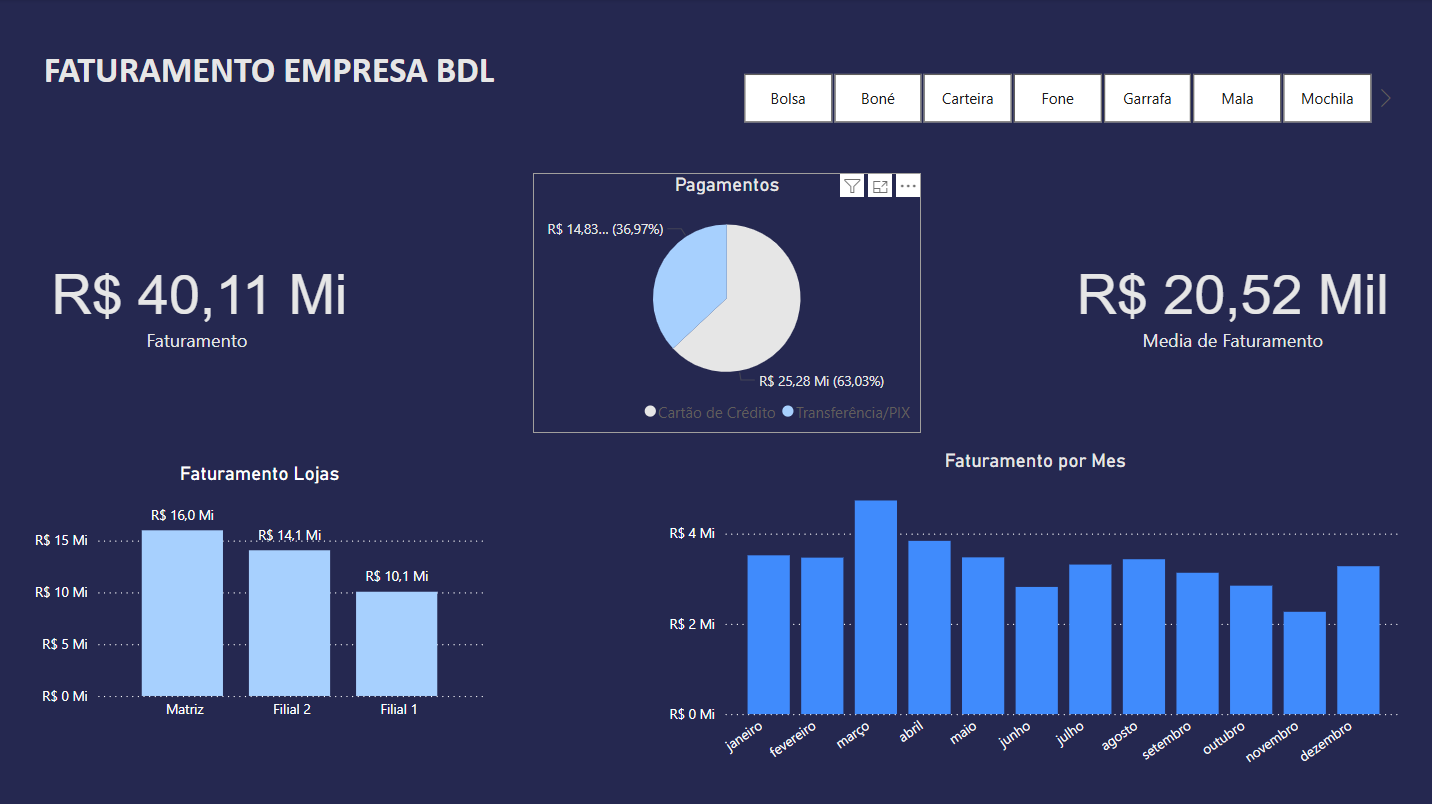

Layout of this report page (visuals, bound fields, positions):
{"tool":"powerbi","page":{"name":"Página 1","canvas":[1280,720],"ordinal":0},"visuals":[{"type":"card","fields":{"Values":["Sum(registroVendas.Faturamento)"]},"box":[31.8,211.4,302.3,117],"z":0},{"type":"card","fields":{"Values":["Avg(registroVendas.Faturamento)"]},"box":[952.3,211.4,294.3,117],"z":1000},{"type":"lineClusteredColumnComboChart","title":"Faturamento por Mes ","fields":{"Category":["registroVendas.Data Pedido.Variation.Hierarquia de datas.Mês"],"Y":["Sum(registroVendas.Valor Venda)"]},"box":[594.3,398.9,660.2,301.1],"z":2000},{"type":"pieChart","title":"Pagamentos ","fields":{"Y":["Sum(registroVendas.Valor Venda)"],"Category":["registroVendas.Pagamento"]},"box":[478.4,154.5,344.3,230.7],"z":3000},{"type":"columnChart","title":"Faturamento Lojas","fields":{"Y":["Sum(registroVendas.Valor Venda)"],"Category":["lojas.nome_loja"]},"box":[31.8,410.2,409.1,237.5],"z":4000},{"type":"slicer","fields":{"Values":["registroVendas.Produto"]},"box":[639.8,59.1,605.7,56.8],"z":6000},{"type":"textbox","box":[39.8,38.6,473.9,48.9],"z":7000}]}

Visuals, with their boxes in screenshot pixels (x1, y1, x2, y2), scaled from the page's 1280x720 canvas onto the 1432x804 screenshot:
card - Sum(registroVendas.Faturamento): l=36, t=236, r=374, b=367
card - Avg(registroVendas.Faturamento): l=1065, t=236, r=1395, b=367
"Faturamento por Mes " lineClusteredColumnComboChart: l=665, t=445, r=1403, b=782
"Pagamentos " pieChart: l=535, t=173, r=920, b=430
"Faturamento Lojas" columnChart: l=36, t=458, r=493, b=723
slicer - registroVendas.Produto: l=716, t=66, r=1393, b=129
textbox: l=45, t=43, r=575, b=98
